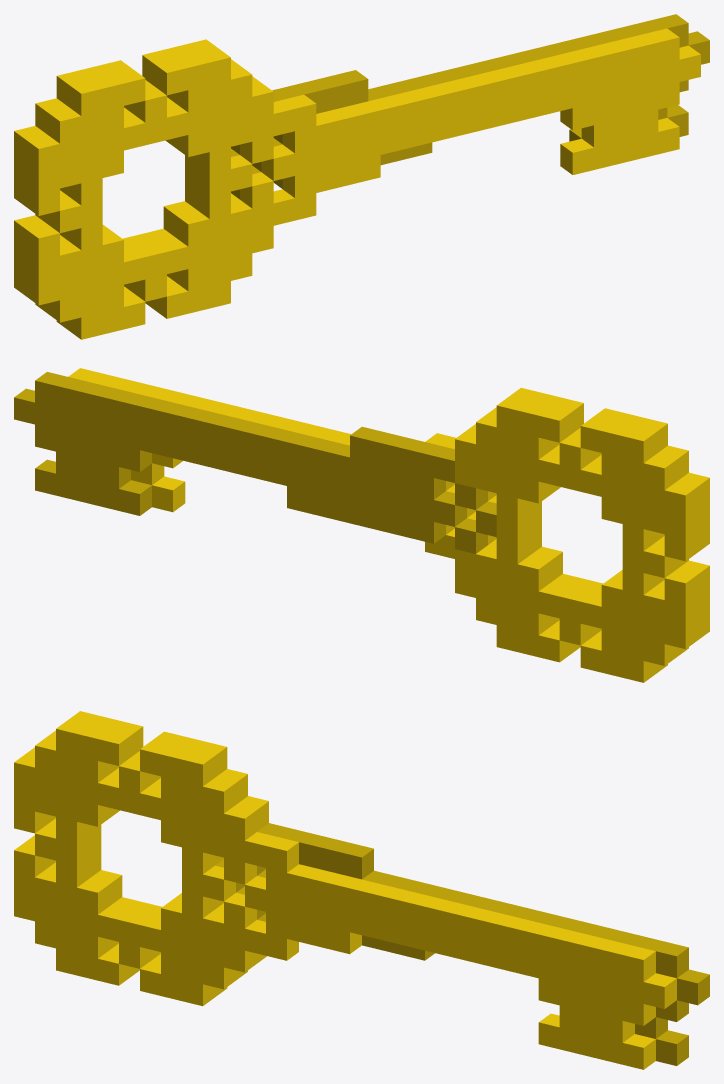
The model's file is key4.glb.
3 renders of one model, top to bottom at view 1: azimuth 30°, elevation 25°; view 2: azimuth 150°, elevation 25°; view 3: azimuth 330°, elevation 25°, orthographic.
Visible parts, largest first — view 1: Untitled; view 2: Untitled; view 3: Untitled.
Boxes of the visible parts, left/top/right/bottom form: Untitled: left=14, top=14, right=709, bottom=339; Untitled: left=14, top=368, right=709, bottom=682; Untitled: left=14, top=711, right=709, bottom=1069.
Bounding box in the file's own units: 3.2 × 1.1 × 0.2.
1 material, 1 textured.
